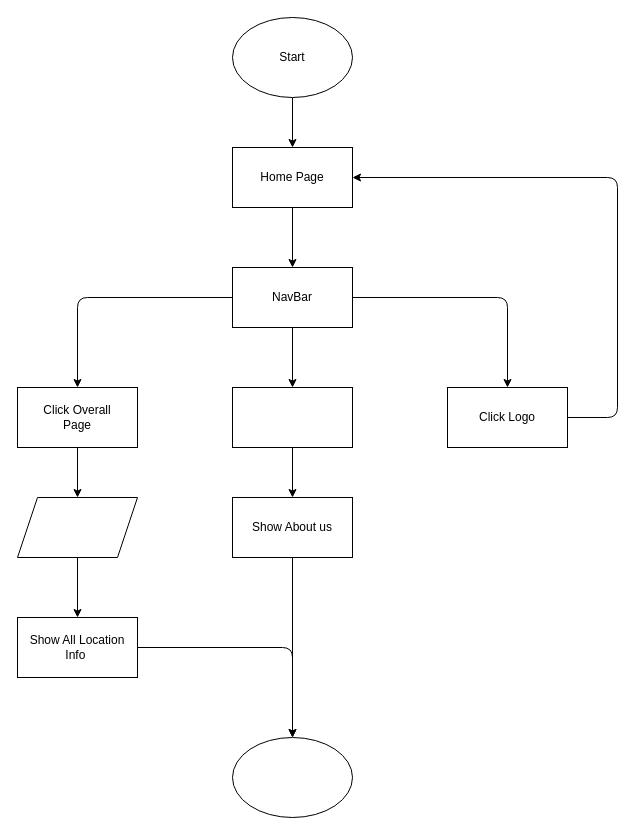
Some shapes in this 643 by 835 pixel diagram are drawn without their labels. Each missing label, with the box of its shape:
Click About Us Page: (232, 386, 352, 448)
End: (232, 736, 352, 818)
Get API from Thingspeak: (16, 496, 138, 558)
